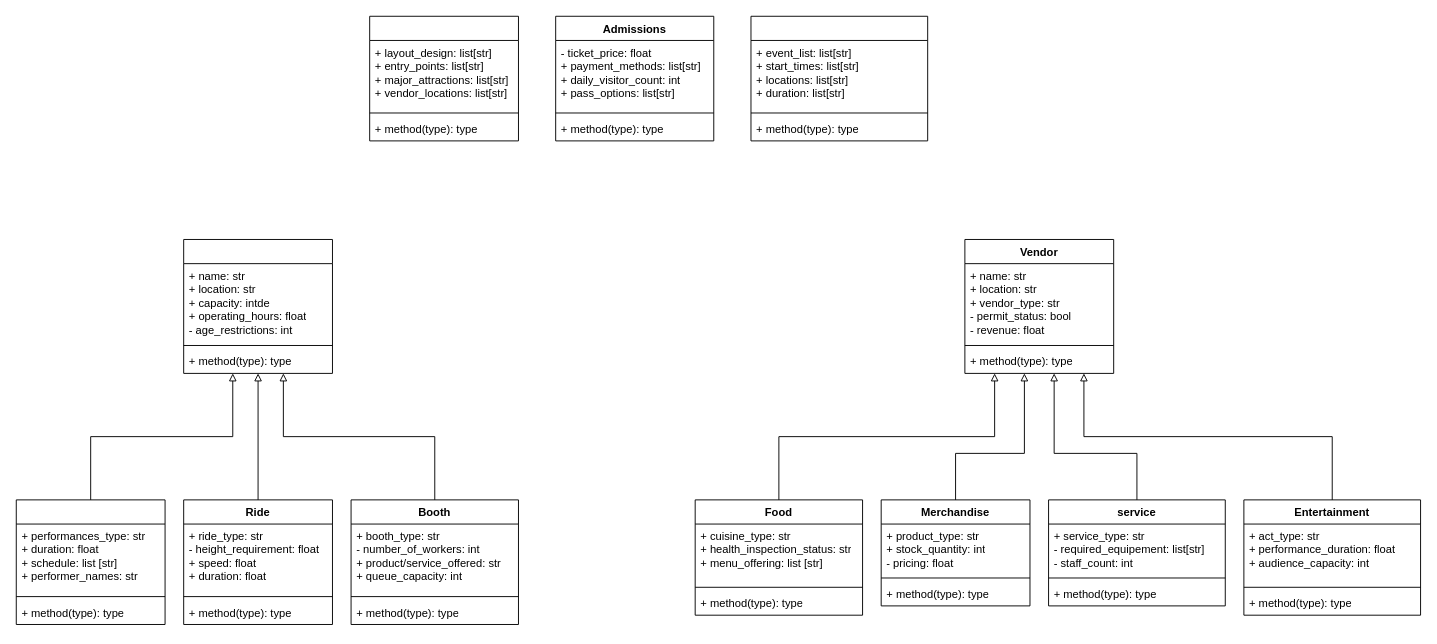
Some shapes in this 1437 by 644 pixel diagram are drawn without their labels. The box of each missing label's shape, as (x1, y1, x2, y2) in pixels:
Attraction: (183, 239, 332, 373)
Map: (369, 15, 518, 141)
Schedule: (750, 15, 928, 141)
Show: (15, 499, 165, 624)
